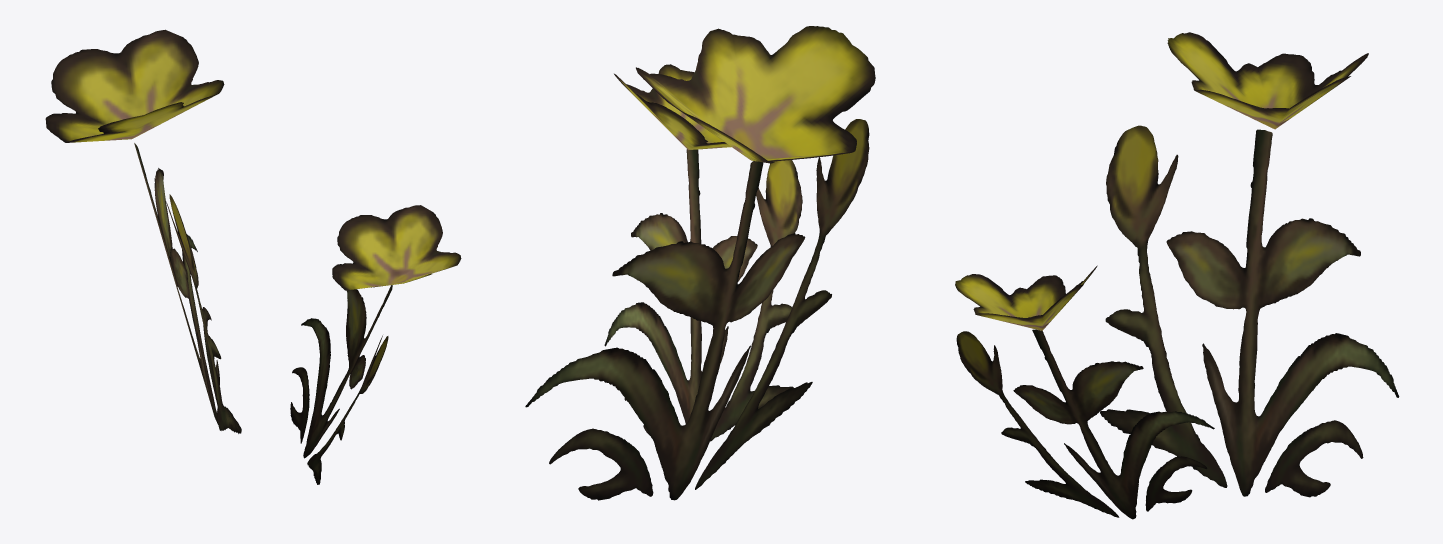
File: FOL_GrassD.FBX
3 renders of one model, left to right at view 1: azimuth 30°, elevation 25°; view 2: azimuth 150°, elevation 25°; view 3: azimuth 270°, elevation 25°, orthographic. The views are drawn at different scales.
Visible parts, largest first — view 1: FOL_GrassD; view 2: FOL_GrassD; view 3: FOL_GrassD.
Boxes of the visible parts, x1,y1,x2,y2 form: FOL_GrassD: (45, 29, 461, 484); FOL_GrassD: (525, 26, 875, 500); FOL_GrassD: (955, 32, 1399, 519).
Size of the model in its own units: 105 by 126 by 128.
1 material, 1 textured.
